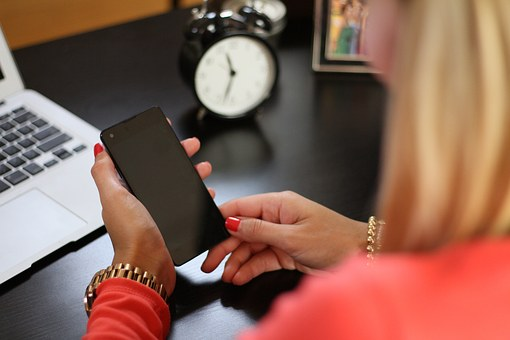mobile: (101, 115, 235, 267)
